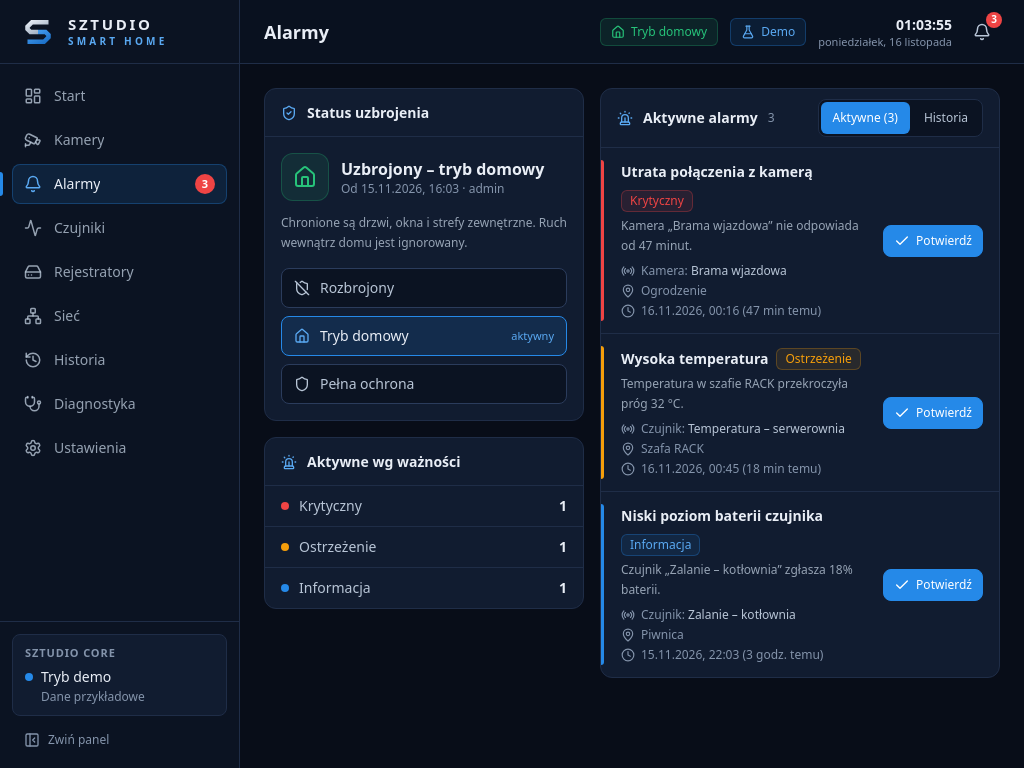
Test: alarmy › potwierdzenie alarmu przenosi go do historii
Expected: the button "Aktywne (3)" is shown, left=820, top=102, right=910, bottom=134
Click the button "Potwierdź" below "Utrata połączenia z kamerą": x=933, y=240 left=883, top=224, right=983, bottom=256
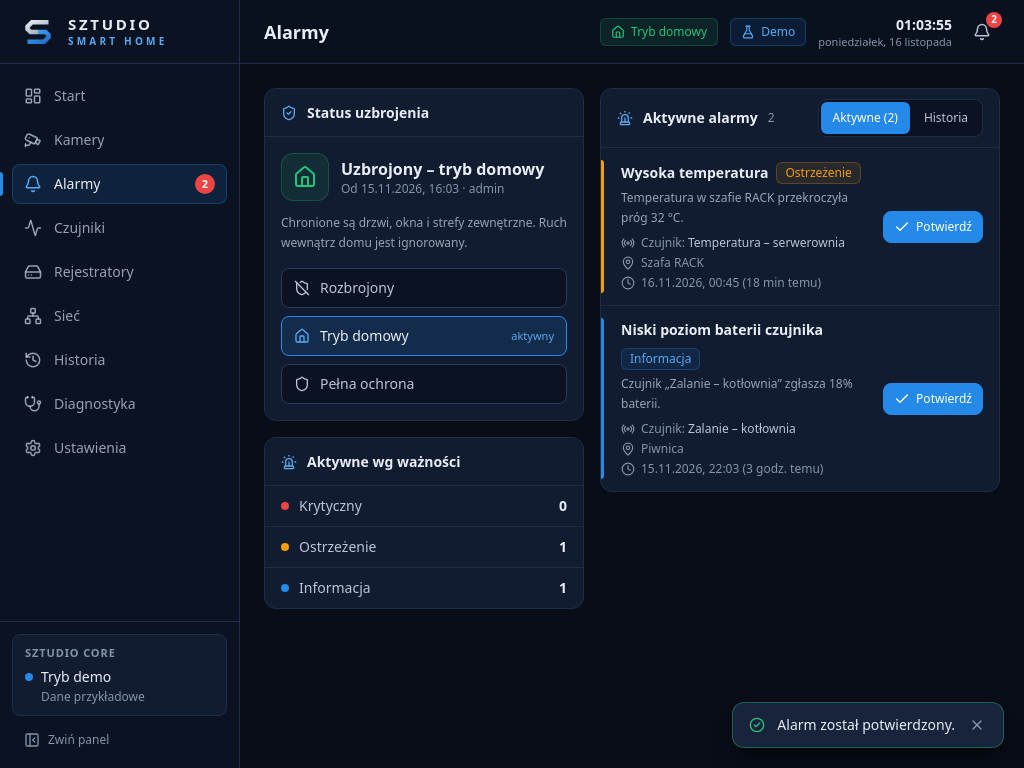
Result: the button "Aktywne (2)" is shown at left=820, top=102, right=910, bottom=134
Result: the heading "Utrata połączenia z kamerą" is gone
Result: the text "Alarm został potwierdzony." is shown at left=777, top=715, right=955, bottom=735
Click the button "Historia": x=946, y=118 left=912, top=102, right=980, bottom=134
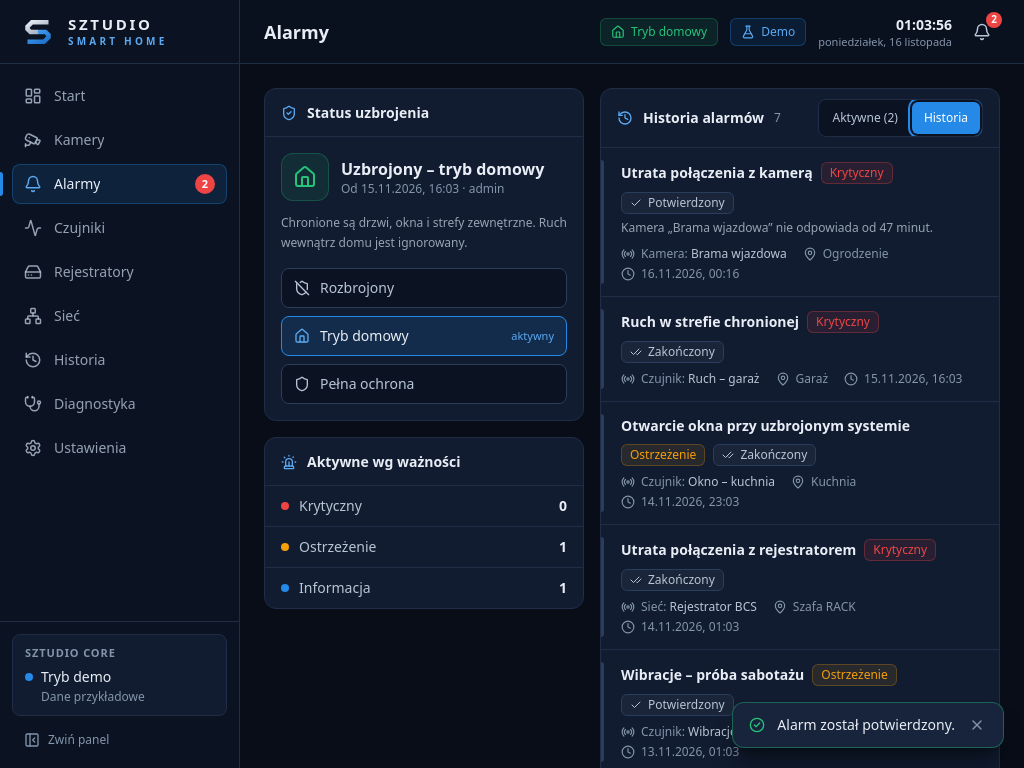
Result: the text "Potwierdzony" below "Utrata połączenia z kamerą" is shown at left=648, top=194, right=725, bottom=211
